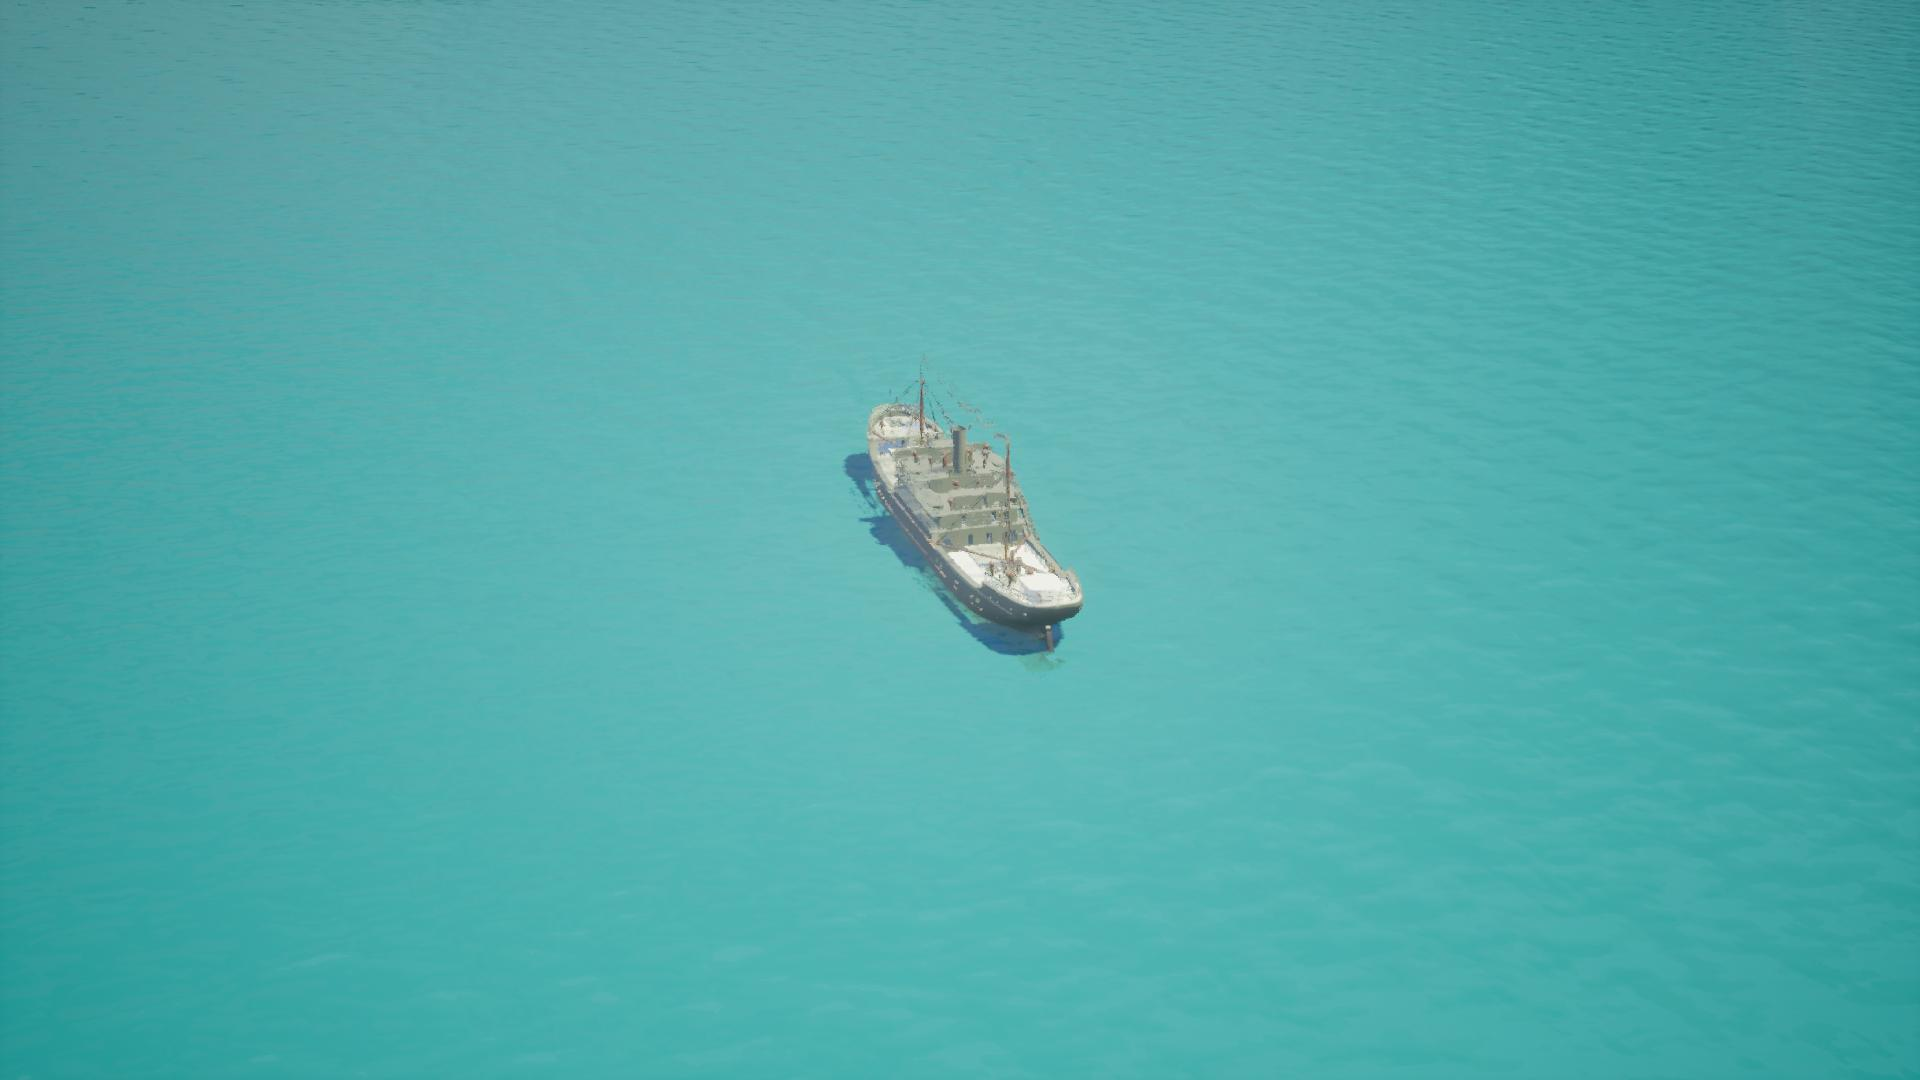Fishing Boat: (851, 359, 1081, 655)
